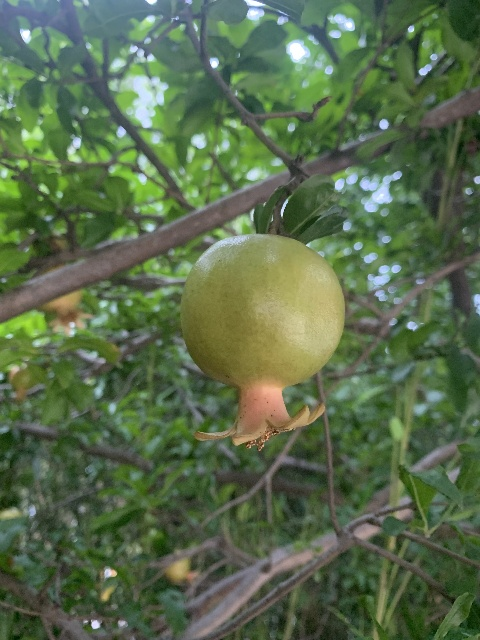mid-growth: (178, 234, 345, 449), (7, 366, 41, 403)
